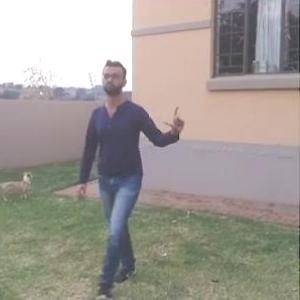land_hand: (159, 102, 189, 137)
